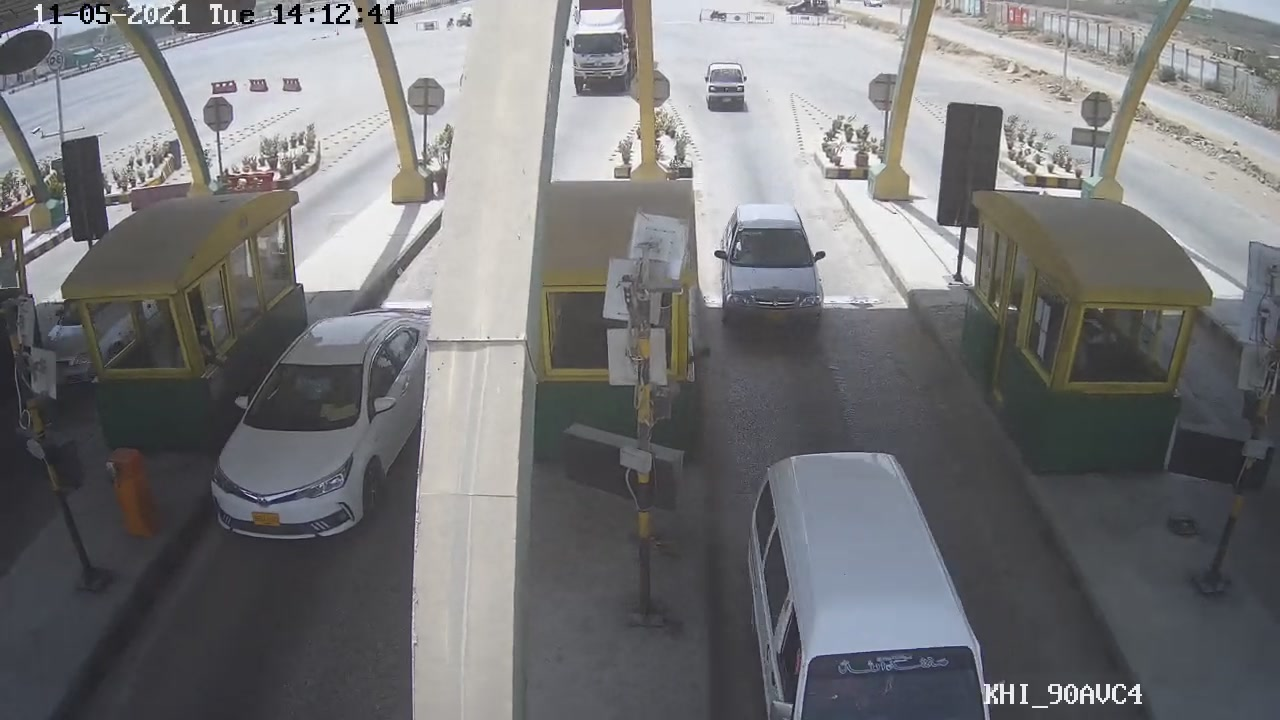F1: (715, 200, 838, 342)
